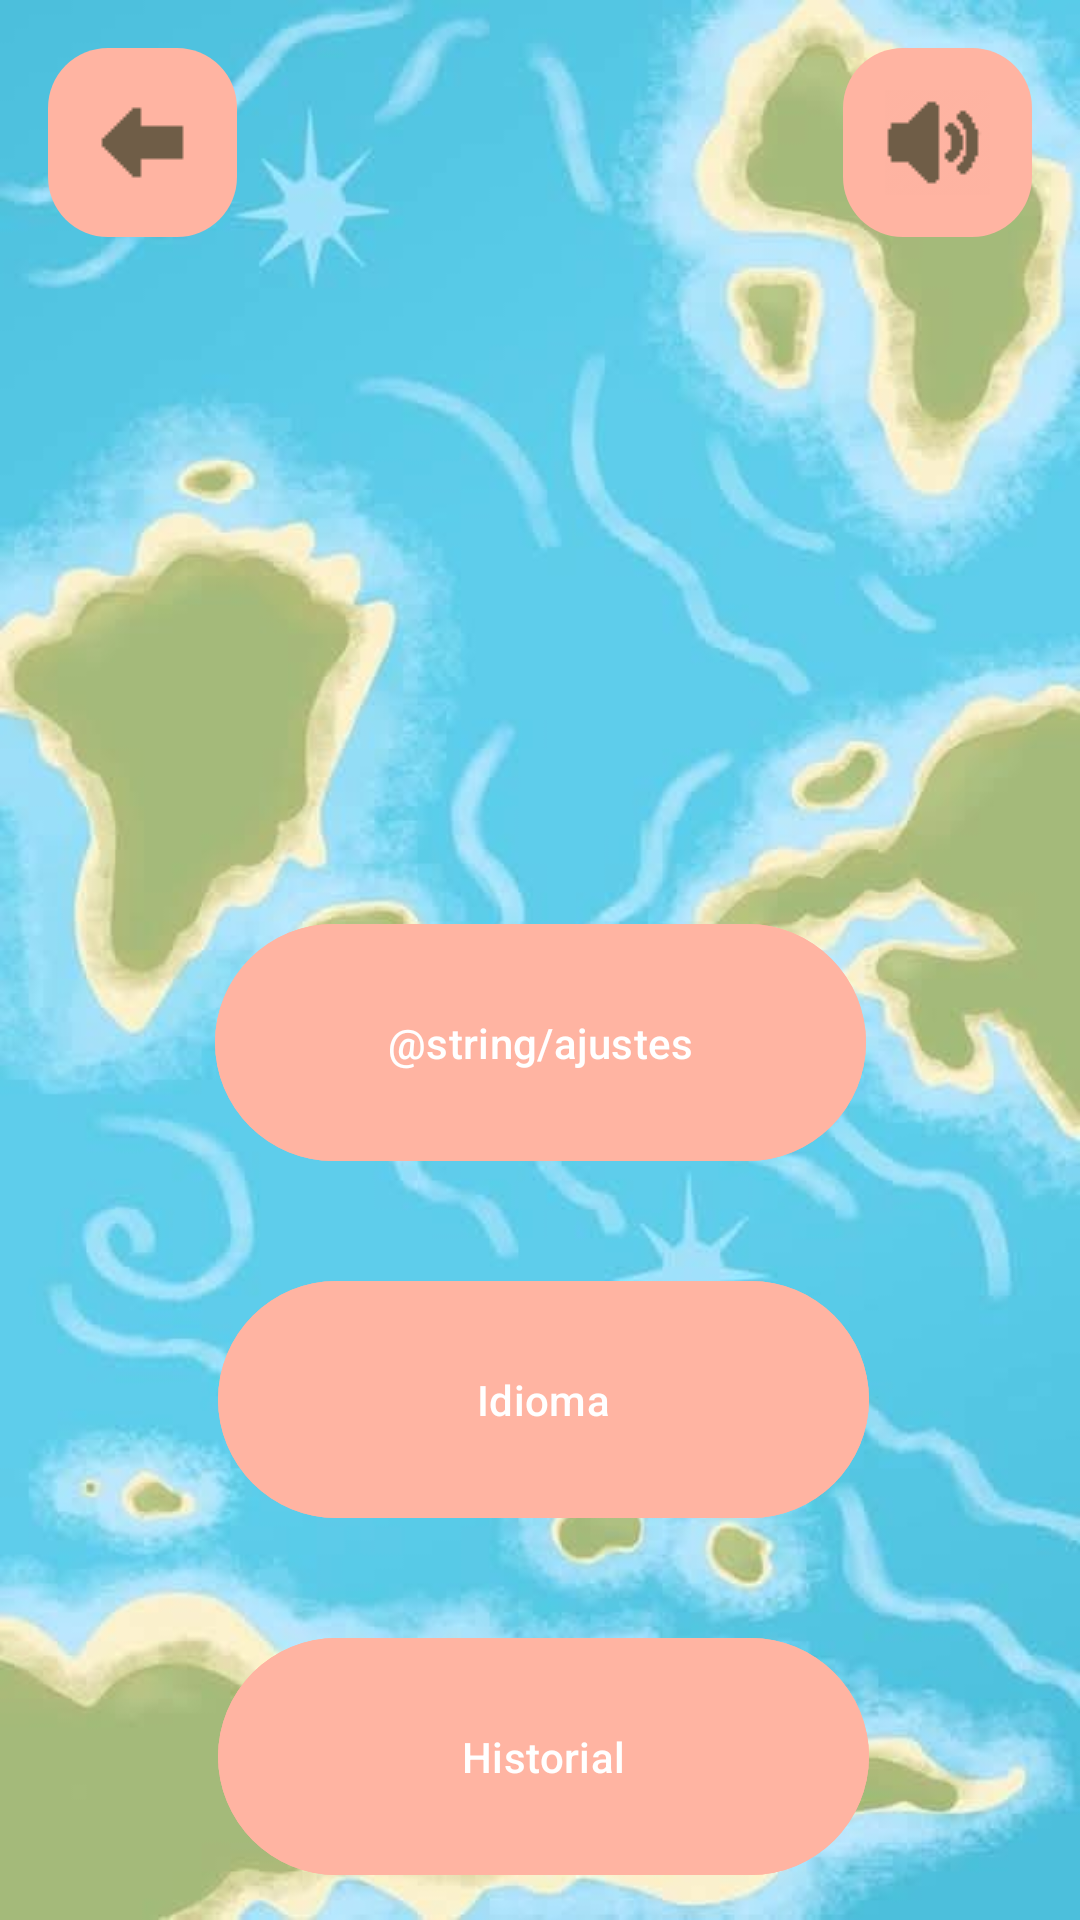

Locate icon controls on the screen. Image size 1080*1920, boxes as (x1, y1, x2, y2).
flecha: (48, 48, 237, 237)
